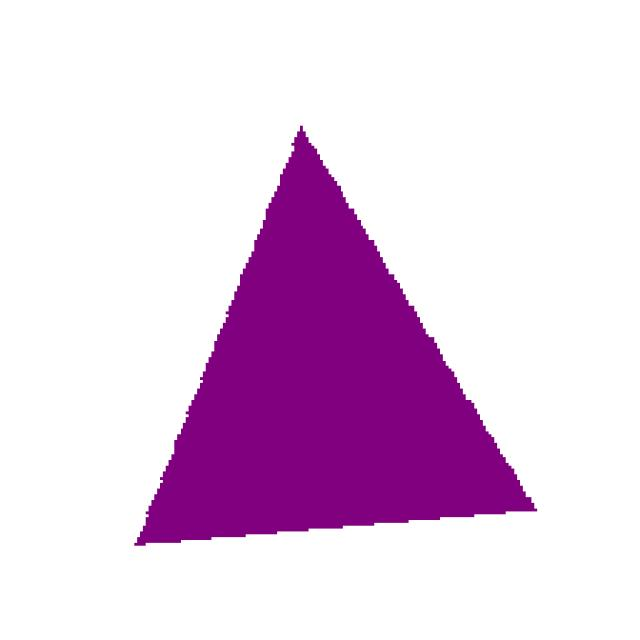Triangle: (77, 111, 639, 610)
